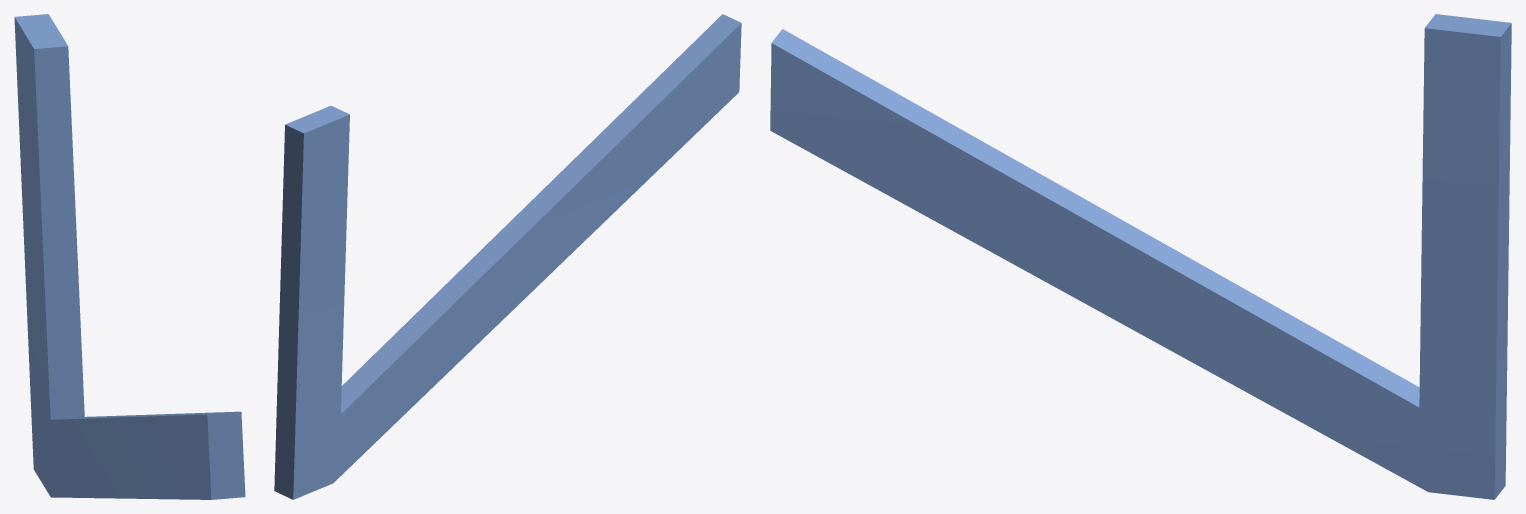
Rendered from New_Number_7.gltf.
3 views of the same model, side by side, from view 1: azimuth 30°, elevation 25°; view 2: azimuth 150°, elevation 25°; view 3: azimuth 270°, elevation 25° (orthographic). The views are drawn at different scales.
Visible parts, largest first — view 1: Part 673; view 2: Part 673; view 3: Part 673.
Boxes of the visible parts, x1,y1,x2,y2 form: Part 673: (14, 14, 245, 499); Part 673: (274, 14, 741, 499); Part 673: (770, 14, 1511, 499).
Size of the model in its own units: 0.00182 by 0.00366 by 0.00541.
